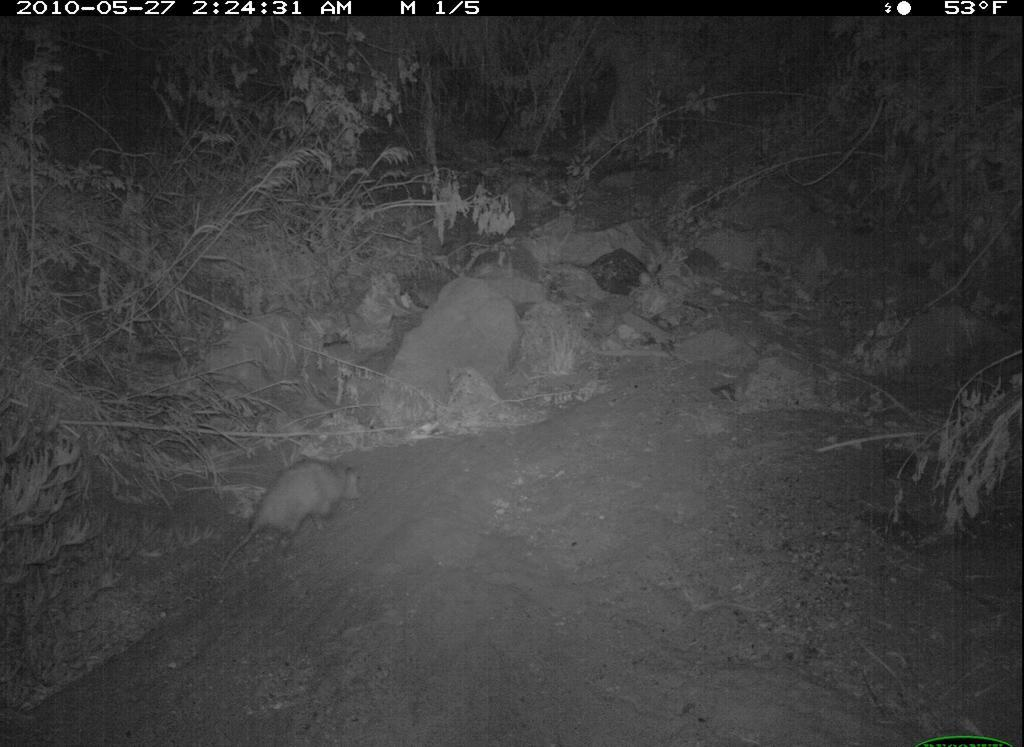opossum: (209, 456, 370, 591)
